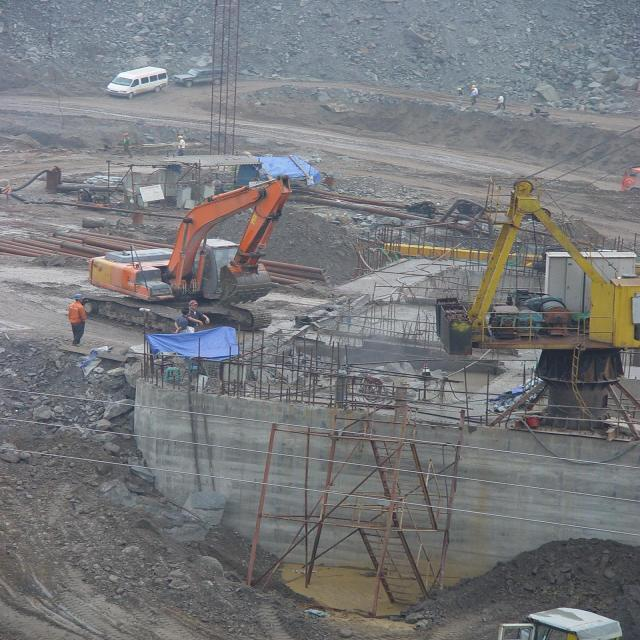excavator: (70, 172, 298, 340)
